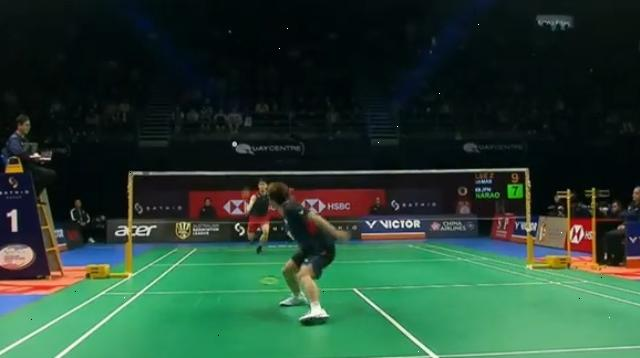Shuttlecock: (230, 137, 240, 151)
